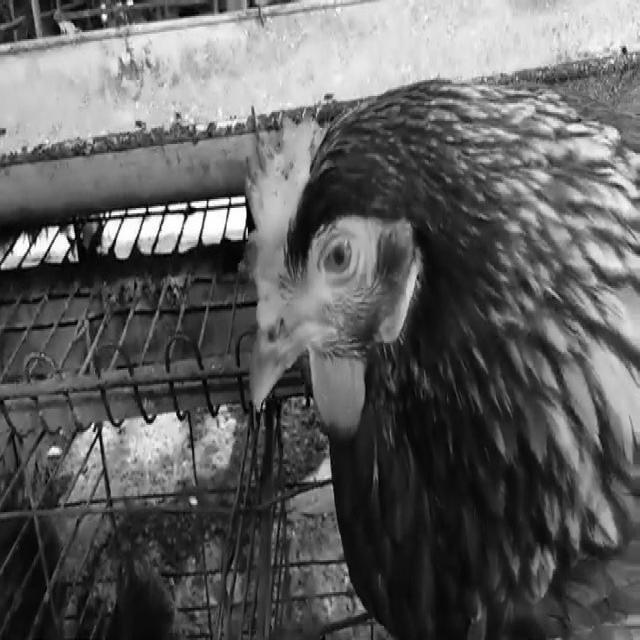bird flu: (228, 92, 640, 640)
